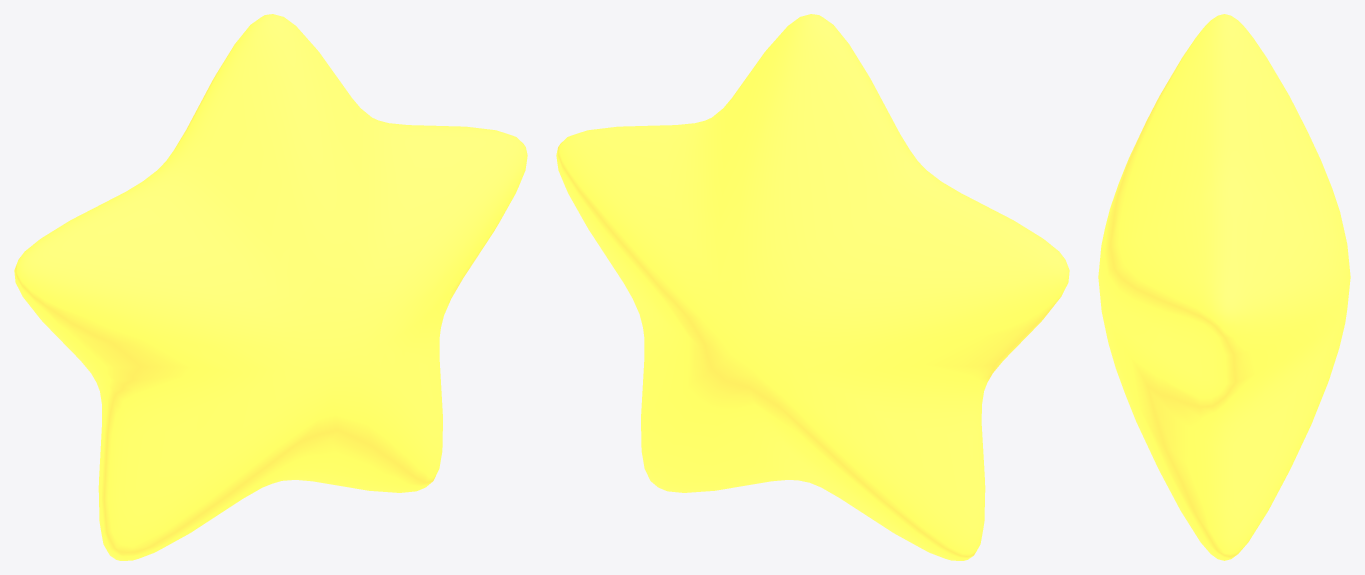
The model's file is star.glb.
3 renders of one model, left to right at view 1: azimuth 30°, elevation 25°; view 2: azimuth 150°, elevation 25°; view 3: azimuth 270°, elevation 25°, orthographic. The views are drawn at different scales.
Visible parts, largest first — view 1: Circle.001; view 2: Circle.001; view 3: Circle.001.
Boxes of the visible parts, bbox=[...] form: Circle.001: bbox=[14, 14, 527, 560]; Circle.001: bbox=[556, 14, 1069, 560]; Circle.001: bbox=[1098, 14, 1350, 560].
Size of the model in its own units: 1.47 by 1.41 by 0.6752.
